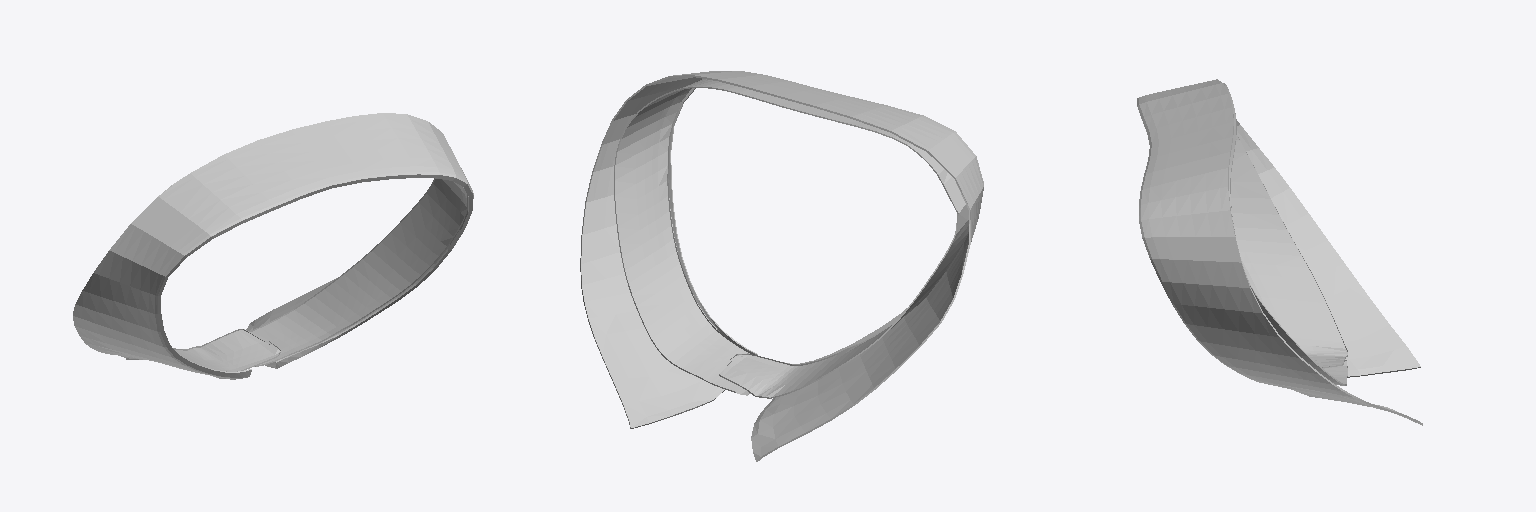
File: tab_hook.obj
3 renders of one model, left to right at view 1: azimuth 30°, elevation 25°; view 2: azimuth 150°, elevation 25°; view 3: azimuth 270°, elevation 25°, orthographic.
Visible parts, largest first — view 1: 16__tab_hook, inner_collar_out; view 2: 16__tab_hook, inner_collar_out; view 3: 16__tab_hook, inner_collar_out.
Boxes of the visible parts, <box> form: 16__tab_hook: <box>73,113,473,379</box>; inner_collar_out: <box>163,176,467,371</box>; 16__tab_hook: <box>580,71,983,461</box>; inner_collar_out: <box>614,79,968,398</box>; 16__tab_hook: <box>1137,79,1422,425</box>; inner_collar_out: <box>1223,83,1347,385</box>.
Size of the model in its own units: 17.99 by 13.12 by 12.1.